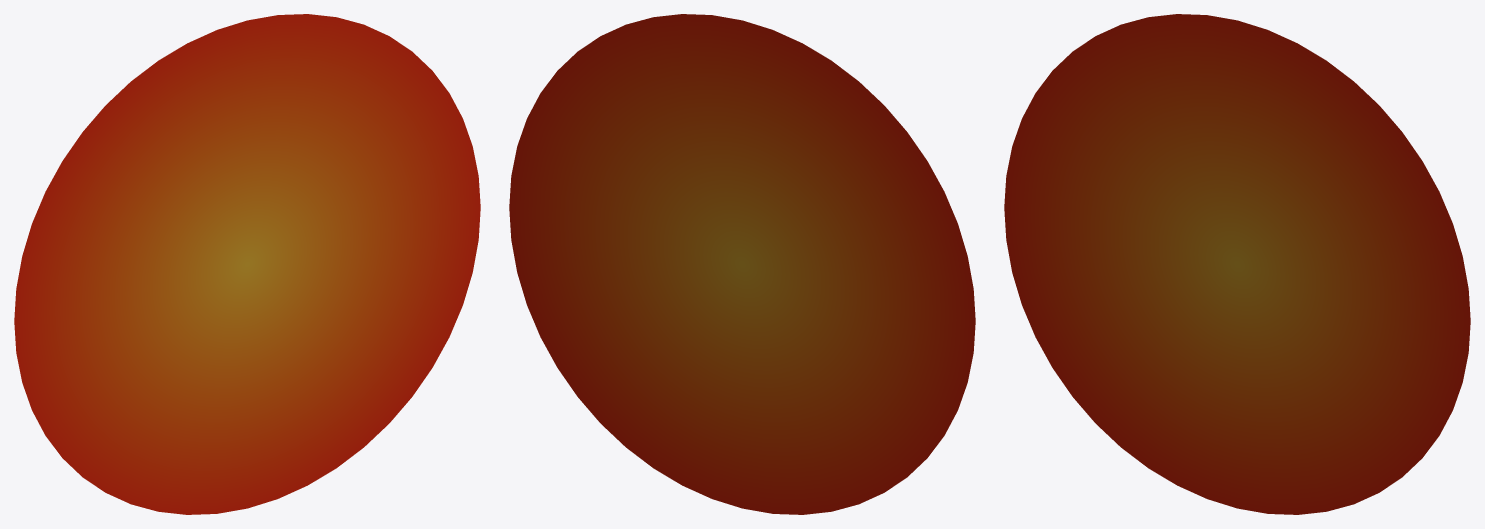
Rendered from HuTao_ParamitaPapilioState_ParamitaMicroGlow.fbx.
3 views of the same model, side by side, from view 1: azimuth 30°, elevation 25°; view 2: azimuth 150°, elevation 25°; view 3: azimuth 330°, elevation 25° (orthographic).
Visible parts, largest first — view 1: PART_ParamitaTransitionMicroGlow; view 2: PART_ParamitaTransitionMicroGlow; view 3: PART_ParamitaTransitionMicroGlow.
Part boxes in pixels (bbox=[...]): PART_ParamitaTransitionMicroGlow: bbox=[14, 14, 480, 514]; PART_ParamitaTransitionMicroGlow: bbox=[509, 14, 975, 514]; PART_ParamitaTransitionMicroGlow: bbox=[1004, 14, 1470, 514].
Size of the model in its own units: 200 by 200 by 3.26e-05.
